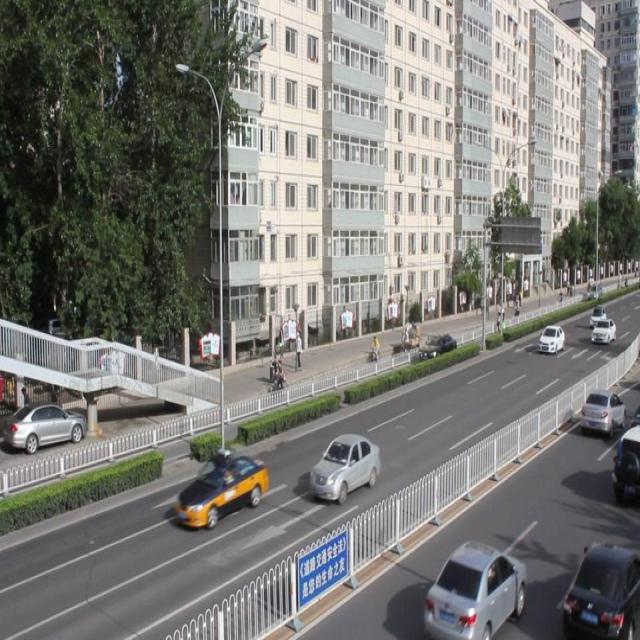car: (421, 539, 525, 640), (560, 540, 640, 640), (174, 451, 268, 527), (307, 431, 380, 501), (579, 386, 623, 435), (614, 424, 640, 499), (419, 331, 455, 362)
